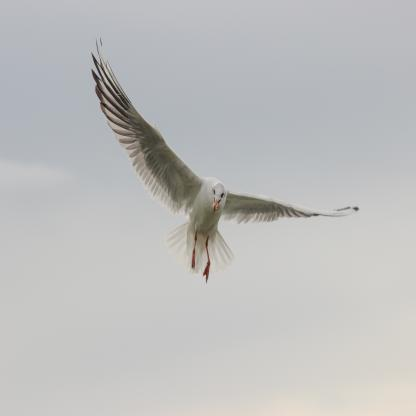bird: (91, 36, 360, 283)
